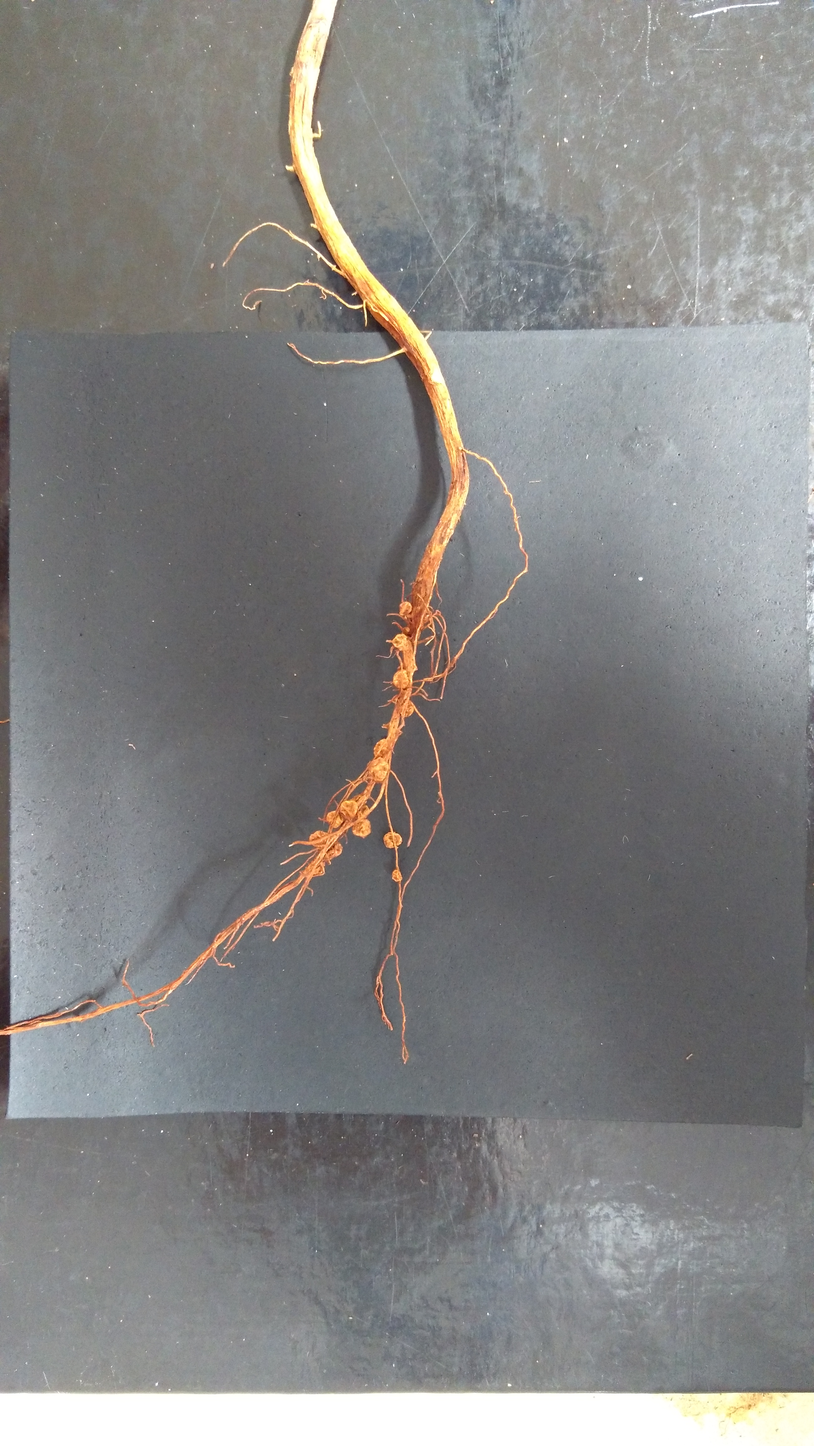nodule: (366, 757, 390, 784), (349, 819, 372, 839), (323, 839, 343, 862), (308, 829, 330, 849), (382, 830, 403, 850), (339, 799, 358, 819), (391, 669, 409, 689), (372, 738, 390, 758), (325, 810, 343, 828), (391, 633, 408, 649), (397, 601, 414, 616), (399, 702, 414, 718), (390, 868, 403, 883), (359, 804, 370, 816), (402, 625, 411, 633)
